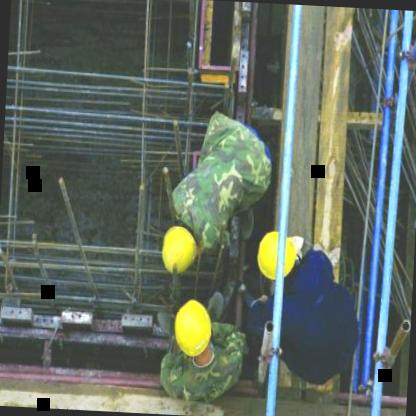helmet: (171, 298, 214, 360), (255, 226, 299, 283), (158, 223, 200, 276)
